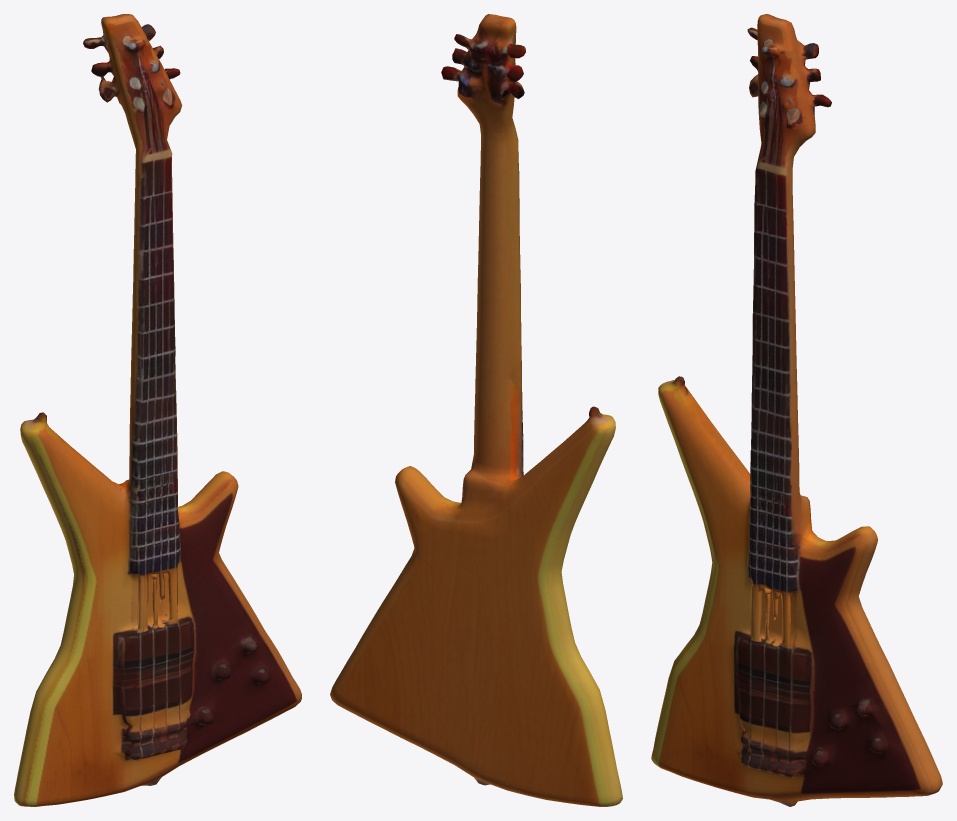
Rendered from bass.fbx.
3 views of the same model, side by side, from view 1: azimuth 30°, elevation 25°; view 2: azimuth 150°, elevation 25°; view 3: azimuth 330°, elevation 25° (orthographic).
Parts seen in each view (by area): view 1: tripo_node_7813587b-0e82-4574-9143-b57d98f5615a; view 2: tripo_node_7813587b-0e82-4574-9143-b57d98f5615a; view 3: tripo_node_7813587b-0e82-4574-9143-b57d98f5615a.
Boxes of the visible parts, x1,y1,x2,y2 form: tripo_node_7813587b-0e82-4574-9143-b57d98f5615a: (14, 14, 301, 806); tripo_node_7813587b-0e82-4574-9143-b57d98f5615a: (330, 14, 622, 806); tripo_node_7813587b-0e82-4574-9143-b57d98f5615a: (651, 14, 942, 806).
Bounding box in the file's own units: 40.19 × 104 × 8.28.
Materials: 1 (1 with a texture image).
